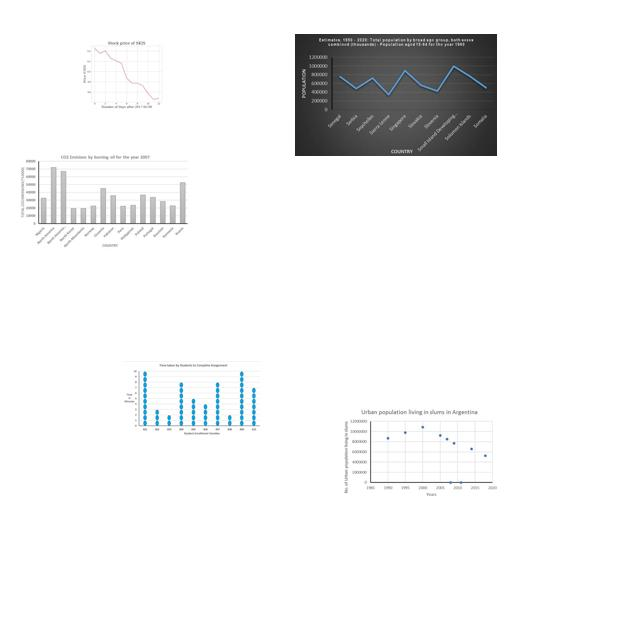Graph: (295, 34, 497, 156), (20, 153, 189, 249), (341, 408, 499, 496), (123, 361, 261, 436), (77, 37, 174, 110)
